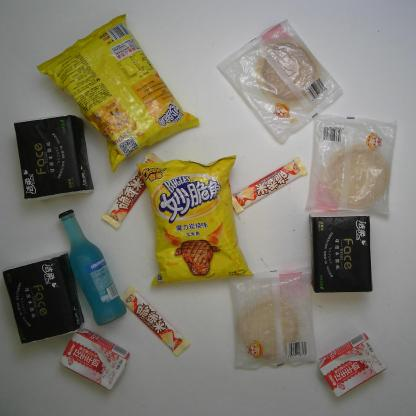Alcohol: (58, 208, 126, 326)
Chocolate: (102, 151, 166, 229), (121, 286, 190, 356), (230, 155, 307, 214)
Dessert: (218, 19, 345, 144), (307, 110, 399, 218), (230, 264, 316, 372)
Milk: (60, 328, 131, 391), (318, 333, 386, 398)
Puffed Food: (37, 13, 200, 174), (136, 154, 254, 286)
Tissue: (2, 253, 84, 345), (13, 114, 94, 202), (309, 210, 374, 293)
